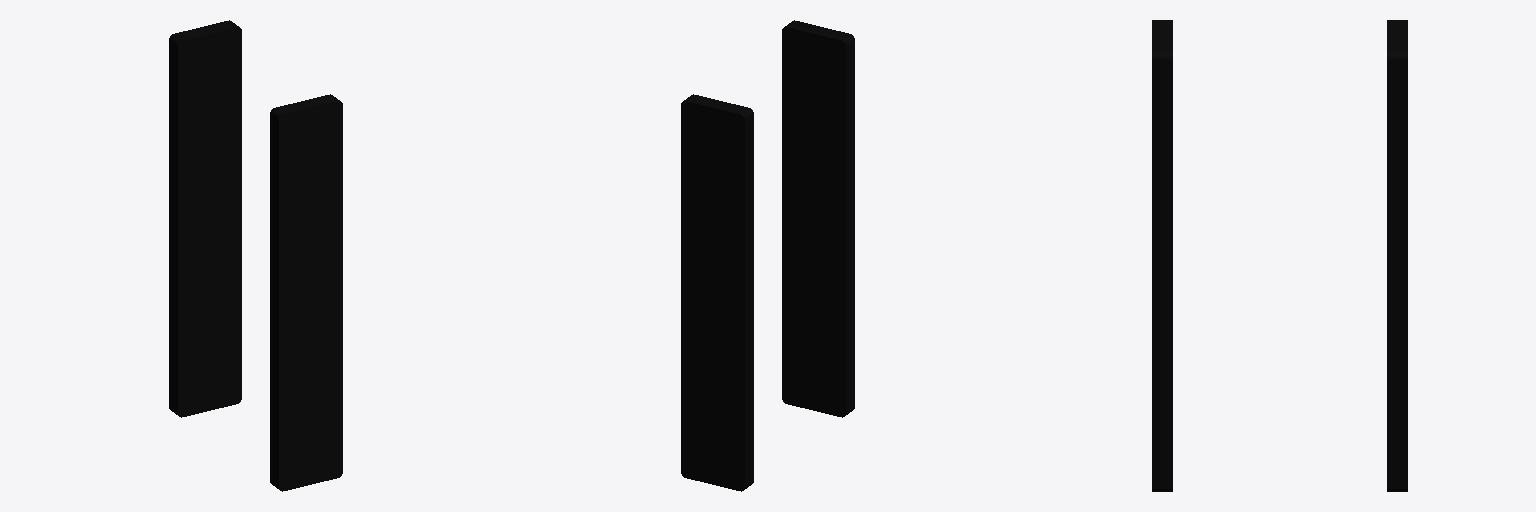
URDF robot description (turtlebot_arm):
<?xml version="1.0" ?>
<!-- =================================================================================== -->
<!-- |    This document was autogenerated by xacro from src/arm_description/urdf/meu_braco.urdf.xacro | -->
<!-- |    EDITING THIS FILE BY HAND IS NOT RECOMMENDED                                 | -->
<!-- =================================================================================== -->
<robot name="turtlebot_arm">
  <ros2_control name="GazeboSystem" type="system">
    <hardware>
      <plugin>gz_ros2_control/GazeboSimSystem</plugin>
    </hardware>
    <joint name="arm_shoulder_pan_joint">
      <command_interface name="position">
        <param name="min">-2.617</param>
        <param name="max">2.617</param>
      </command_interface>
      <state_interface name="position"/>
      <state_interface name="velocity"/>
    </joint>
    <joint name="arm_shoulder_lift_joint">
      <command_interface name="position">
        <param name="min">-2.2</param>
        <param name="max">2.16</param>
      </command_interface>
      <state_interface name="position"/>
      <state_interface name="velocity"/>
    </joint>
    <joint name="arm_elbow_flex_joint">
      <command_interface name="position">
        <param name="min">-2.42</param>
        <param name="max">2.38</param>
      </command_interface>
      <state_interface name="position"/>
      <state_interface name="velocity"/>
    </joint>
    <joint name="arm_wrist_flex_joint">
      <command_interface name="position">
        <param name="min">-1.72</param>
        <param name="max">1.68</param>
      </command_interface>
      <state_interface name="position"/>
      <state_interface name="velocity"/>
    </joint>
    <joint name="crane_plus_moving_finger_joint">
      <command_interface name="position">
        <param name="min">-0.6</param>
        <param name="max">0.508</param>
      </command_interface>
      <state_interface name="position"/>
      <state_interface name="velocity"/>
    </joint>
  </ros2_control>
  <material name="White">
    <color rgba="0.87 0.90 0.87 1.0"/>
  </material>
  <material name="Black">
    <color rgba="0.08 0.08 0.08 1.0"/>
  </material>
  <material name="Gray">
    <color rgba="0.2 0.2 0.21 1.0"/>
  </material>
  <material name="Green">
    <color rgba="0.22 0.32 0.14 1.0"/>
  </material>
  <link name="base_link"/>
  <link name="arm_base_link"/>
  <joint name="arm_base_joint" type="fixed">
    <origin xyz="0.1 0.03 0.435"/>
    <parent link="base_link"/>
    <child link="arm_base_link"/>
  </joint>
  <link name="gripper_link"/>
  <joint name="gripper_link_joint" type="revolute">
    <origin rpy="0 -1.57 0" xyz="0 0 0.112"/>
    <parent link="arm_wrist_flex_link"/>
    <child link="gripper_link"/>
    <limit effort="30" lower="-3.14" upper="3.14" velocity="1"/>
    <axis xyz="1 0 0"/>
  </joint>
  <joint name="arm_shoulder_pan_servo_joint" type="fixed">
    <origin rpy="1.570795 0 1.570795" xyz="0 0 0"/>
    <parent link="arm_base_link"/>
    <child link="arm_shoulder_pan_servo_link"/>
  </joint>
  <link name="arm_shoulder_pan_servo_link">
    <inertial>
      <mass value="0.1"/>
      <origin rpy="0 0 0" xyz="0 0 0"/>
      <inertia ixx="0.0001" ixy="0" ixz="0" iyy="0.0001" iyz="0" izz="0.0001"/>
    </inertial>
    <visual>
      <origin rpy="0 0 0" xyz=" 0 0 0 "/>
      <geometry>
        <mesh filename="package://arm_description/meshes/ax12_box.stl" scale="0.001 0.001 0.001"/>
      </geometry>
      <material name="Black"/>
    </visual>
    <collision>
      <origin rpy="0 0 0" xyz="0.0 0.0 -0.01241"/>
      <geometry>
        <box size="0.025 0.038 0.04762"/>
      </geometry>
    </collision>
  </link>
  <joint name="arm_shoulder_pan_joint" type="revolute">
    <origin rpy="-1.570795 1.570795 3.14159" xyz="0 0.019 0"/>
    <axis xyz="0 0 -1"/>
    <limit effort="30" lower="-2.617" upper="2.617" velocity="1.571"/>
    <parent link="arm_shoulder_pan_servo_link"/>
    <child link="arm_shoulder_pan_link"/>
  </joint>
  <link name="arm_shoulder_pan_link">
    <inertial>
      <mass value="0.1"/>
      <origin rpy="0 0 0" xyz="0 0 0"/>
      <inertia ixx="0.0001" ixy="0" ixz="0" iyy="0.0001" iyz="0" izz="0.0001"/>
    </inertial>
    <visual>
      <origin rpy="0 0 0" xyz=" 0 0 0 "/>
      <geometry>
        <mesh filename="package://arm_description/meshes/F3.stl" scale="0.001 0.001 0.001"/>
      </geometry>
      <material name="Gray"/>
    </visual>
    <collision>
      <origin rpy="0 0 0" xyz="0.0 0.0 -0.0045"/>
      <geometry>
        <box size="0.025 0.038 0.009"/>
      </geometry>
    </collision>
  </link>
  <joint name="arm_shoulder_lift_servo_joint" type="fixed">
    <origin rpy="0 3.14159 0" xyz="0 0 -0.041499999999999995"/>
    <parent link="arm_shoulder_pan_link"/>
    <child link="arm_shoulder_lift_servo_link"/>
  </joint>
  <link name="arm_shoulder_lift_servo_link">
    <inertial>
      <mass value="0.1"/>
      <origin rpy="0 0 0" xyz="0 0 0"/>
      <inertia ixx="0.0001" ixy="0" ixz="0" iyy="0.0001" iyz="0" izz="0.0001"/>
    </inertial>
    <visual>
      <origin rpy="0 0 0" xyz=" 0 0 0 "/>
      <geometry>
        <mesh filename="package://arm_description/meshes/ax12_box.stl" scale="0.001 0.001 0.001"/>
      </geometry>
      <material name="Black"/>
    </visual>
    <collision>
      <origin rpy="0 0 0" xyz="0.0 0.0 -0.01241"/>
      <geometry>
        <box size="0.025 0.038 0.04762"/>
      </geometry>
    </collision>
  </link>
  <joint name="arm_shoulder_lift_joint" type="revolute">
    <origin rpy="0 0 0" xyz="0 0 0"/>
    <axis xyz="0 1 0"/>
    <limit effort="30" lower="-2.2" upper="2.16" velocity="1.571"/>
    <parent link="arm_shoulder_lift_servo_link"/>
    <child link="arm_shoulder_lift_link"/>
  </joint>
  <link name="arm_shoulder_lift_link">
    <inertial>
      <mass value="0.1"/>
      <origin rpy="0 0 0" xyz="0 0 0"/>
      <inertia ixx="0.0001" ixy="0" ixz="0" iyy="0.0001" iyz="0" izz="0.0001"/>
    </inertial>
    <visual>
      <origin rpy="0 0 0" xyz=" 0 0 0 "/>
      <geometry>
        <mesh filename="package://arm_description/meshes/F4.stl" scale="0.001 0.001 0.001"/>
      </geometry>
      <material name="Gray"/>
    </visual>
    <collision>
      <origin rpy="0 0 0" xyz="0.0 0.0 0.0215"/>
      <geometry>
        <box size="0.028 0.0485 0.065"/>
      </geometry>
    </collision>
  </link>
  <joint name="arm_shoulder_F10_0_joint" type="fixed">
    <origin rpy="0 0 0" xyz="0 0 0.0545"/>
    <parent link="arm_shoulder_lift_link"/>
    <child link="arm_shoulder_F10_0_link"/>
  </joint>
  <link name="arm_shoulder_F10_0_link">
    <inertial>
      <mass value="0.1"/>
      <origin rpy="0 0 0" xyz="0 0 0"/>
      <inertia ixx="0.0001" ixy="0" ixz="0" iyy="0.0001" iyz="0" izz="0.0001"/>
    </inertial>
    <visual>
      <origin rpy="0 0 0" xyz=" 0 0 0 "/>
      <geometry>
        <mesh filename="package://arm_description/meshes/F10.stl" scale="0.001 0.001 0.001"/>
      </geometry>
      <material name="Gray"/>
    </visual>
    <collision>
      <origin rpy="0 0 0" xyz="0.0 0.0 0.0"/>
      <geometry>
        <box size="0.025 0.038 0.004"/>
      </geometry>
    </collision>
  </link>
  <joint name="arm_shoulder_F10_1_joint" type="fixed">
    <origin rpy="0 0 0" xyz="0 0 0.004"/>
    <parent link="arm_shoulder_F10_0_link"/>
    <child link="arm_shoulder_F10_1_link"/>
  </joint>
  <link name="arm_shoulder_F10_1_link">
    <inertial>
      <mass value="0.1"/>
      <origin rpy="0 0 0" xyz="0 0 0"/>
      <inertia ixx="0.0001" ixy="0" ixz="0" iyy="0.0001" iyz="0" izz="0.0001"/>
    </inertial>
    <visual>
      <origin rpy="0 0 0" xyz=" 0 0 0 "/>
      <geometry>
        <mesh filename="package://arm_description/meshes/F10.stl" scale="0.001 0.001 0.001"/>
      </geometry>
      <material name="Gray"/>
    </visual>
    <collision>
      <origin rpy="0 0 0" xyz="0.0 0.0 0.0"/>
      <geometry>
        <box size="0.025 0.038 0.004"/>
      </geometry>
    </collision>
  </link>
  <joint name="arm_shoulder_F10_2_joint" type="fixed">
    <origin rpy="0 0 0" xyz="0 0 0.004"/>
    <parent link="arm_shoulder_F10_1_link"/>
    <child link="arm_shoulder_F10_2_link"/>
  </joint>
  <link name="arm_shoulder_F10_2_link">
    <inertial>
      <mass value="0.1"/>
      <origin rpy="0 0 0" xyz="0 0 0"/>
      <inertia ixx="0.0001" ixy="0" ixz="0" iyy="0.0001" iyz="0" izz="0.0001"/>
    </inertial>
    <visual>
      <origin rpy="0 0 0" xyz=" 0 0 0 "/>
      <geometry>
        <mesh filename="package://arm_description/meshes/F10.stl" scale="0.001 0.001 0.001"/>
      </geometry>
      <material name="Gray"/>
    </visual>
    <collision>
      <origin rpy="0 0 0" xyz="0.0 0.0 0.0"/>
      <geometry>
        <box size="0.025 0.038 0.004"/>
      </geometry>
    </collision>
  </link>
  <joint name="arm_shoulder_F3_0_joint" type="fixed">
    <origin rpy="0 3.14159 0" xyz="0 0 0.002"/>
    <parent link="arm_shoulder_F10_2_link"/>
    <child link="arm_shoulder_F3_0_link"/>
  </joint>
  <link name="arm_shoulder_F3_0_link">
    <inertial>
      <mass value="0.1"/>
      <origin rpy="0 0 0" xyz="0 0 0"/>
      <inertia ixx="0.0001" ixy="0" ixz="0" iyy="0.0001" iyz="0" izz="0.0001"/>
    </inertial>
    <visual>
      <origin rpy="0 0 0" xyz=" 0 0 0 "/>
      <geometry>
        <mesh filename="package://arm_description/meshes/F3.stl" scale="0.001 0.001 0.001"/>
      </geometry>
      <material name="Gray"/>
    </visual>
    <collision>
      <origin rpy="0 0 0" xyz="0.0 0.0 -0.0045"/>
      <geometry>
        <box size="0.025 0.038 0.009"/>
      </geometry>
    </collision>
  </link>
  <joint name="arm_elbow_flex_servo_joint" type="fixed">
    <origin rpy="0 3.14159 0" xyz="0 0 -0.041499999999999995"/>
    <parent link="arm_shoulder_F3_0_link"/>
    <child link="arm_elbow_flex_servo_link"/>
  </joint>
  <link name="arm_elbow_flex_servo_link">
    <inertial>
      <mass value="0.1"/>
      <origin rpy="0 0 0" xyz="0 0 0"/>
      <inertia ixx="0.0001" ixy="0" ixz="0" iyy="0.0001" iyz="0" izz="0.0001"/>
    </inertial>
    <visual>
      <origin rpy="0 0 0" xyz=" 0 0 0 "/>
      <geometry>
        <mesh filename="package://arm_description/meshes/ax12_box.stl" scale="0.001 0.001 0.001"/>
      </geometry>
      <material name="Black"/>
    </visual>
    <collision>
      <origin rpy="0 0 0" xyz="0.0 0.0 -0.01241"/>
      <geometry>
        <box size="0.025 0.038 0.04762"/>
      </geometry>
    </collision>
  </link>
  <joint name="arm_elbow_flex_joint" type="revolute">
    <origin rpy="0 0 0" xyz="0 0 0"/>
    <axis xyz="0 1 0"/>
    <limit effort="30" lower="-2.42" upper="2.38" velocity="1.571"/>
    <parent link="arm_elbow_flex_servo_link"/>
    <child link="arm_elbow_flex_link"/>
  </joint>
  <link name="arm_elbow_flex_link">
    <inertial>
      <mass value="0.1"/>
      <origin rpy="0 0 0" xyz="0 0 0"/>
      <inertia ixx="0.0001" ixy="0" ixz="0" iyy="0.0001" iyz="0" izz="0.0001"/>
    </inertial>
    <visual>
      <origin rpy="0 0 0" xyz=" 0 0 0 "/>
      <geometry>
        <mesh filename="package://arm_description/meshes/F4.stl" scale="0.001 0.001 0.001"/>
      </geometry>
      <material name="Gray"/>
    </visual>
    <collision>
      <origin rpy="0 0 0" xyz="0.0 0.0 0.0215"/>
      <geometry>
        <box size="0.028 0.0485 0.065"/>
      </geometry>
    </collision>
  </link>
  <joint name="arm_elbow_F10_0_joint" type="fixed">
    <origin rpy="0 0 0" xyz="0 0 0.0545"/>
    <parent link="arm_elbow_flex_link"/>
    <child link="arm_elbow_F10_0_link"/>
  </joint>
  <link name="arm_elbow_F10_0_link">
    <inertial>
      <mass value="0.1"/>
      <origin rpy="0 0 0" xyz="0 0 0"/>
      <inertia ixx="0.0001" ixy="0" ixz="0" iyy="0.0001" iyz="0" izz="0.0001"/>
    </inertial>
    <visual>
      <origin rpy="0 0 0" xyz=" 0 0 0 "/>
      <geometry>
        <mesh filename="package://arm_description/meshes/F10.stl" scale="0.001 0.001 0.001"/>
      </geometry>
      <material name="Gray"/>
    </visual>
    <collision>
      <origin rpy="0 0 0" xyz="0.0 0.0 0.0"/>
      <geometry>
        <box size="0.025 0.038 0.004"/>
      </geometry>
    </collision>
  </link>
  <joint name="arm_elbow_F10_1_joint" type="fixed">
    <origin rpy="0 0 0" xyz="0 0 0.004"/>
    <parent link="arm_elbow_F10_0_link"/>
    <child link="arm_elbow_F10_1_link"/>
  </joint>
  <link name="arm_elbow_F10_1_link">
    <inertial>
      <mass value="0.1"/>
      <origin rpy="0 0 0" xyz="0 0 0"/>
      <inertia ixx="0.0001" ixy="0" ixz="0" iyy="0.0001" iyz="0" izz="0.0001"/>
    </inertial>
    <visual>
      <origin rpy="0 0 0" xyz=" 0 0 0 "/>
      <geometry>
        <mesh filename="package://arm_description/meshes/F10.stl" scale="0.001 0.001 0.001"/>
      </geometry>
      <material name="Gray"/>
    </visual>
    <collision>
      <origin rpy="0 0 0" xyz="0.0 0.0 0.0"/>
      <geometry>
        <box size="0.025 0.038 0.004"/>
      </geometry>
    </collision>
  </link>
  <joint name="arm_elbow_F10_2_joint" type="fixed">
    <origin rpy="0 0 0" xyz="0 0 0.004"/>
    <parent link="arm_elbow_F10_1_link"/>
    <child link="arm_elbow_F10_2_link"/>
  </joint>
  <link name="arm_elbow_F10_2_link">
    <inertial>
      <mass value="0.1"/>
      <origin rpy="0 0 0" xyz="0 0 0"/>
      <inertia ixx="0.0001" ixy="0" ixz="0" iyy="0.0001" iyz="0" izz="0.0001"/>
    </inertial>
    <visual>
      <origin rpy="0 0 0" xyz=" 0 0 0 "/>
      <geometry>
        <mesh filename="package://arm_description/meshes/F10.stl" scale="0.001 0.001 0.001"/>
      </geometry>
      <material name="Gray"/>
    </visual>
    <collision>
      <origin rpy="0 0 0" xyz="0.0 0.0 0.0"/>
      <geometry>
        <box size="0.025 0.038 0.004"/>
      </geometry>
    </collision>
  </link>
  <joint name="arm_elbow_F3_0_joint" type="fixed">
    <origin rpy="0 3.14159 0" xyz="0 0 0.002"/>
    <parent link="arm_elbow_F10_2_link"/>
    <child link="arm_elbow_F3_0_link"/>
  </joint>
  <link name="arm_elbow_F3_0_link">
    <inertial>
      <mass value="0.1"/>
      <origin rpy="0 0 0" xyz="0 0 0"/>
      <inertia ixx="0.0001" ixy="0" ixz="0" iyy="0.0001" iyz="0" izz="0.0001"/>
    </inertial>
    <visual>
      <origin rpy="0 0 0" xyz=" 0 0 0 "/>
      <geometry>
        <mesh filename="package://arm_description/meshes/F3.stl" scale="0.001 0.001 0.001"/>
      </geometry>
      <material name="Gray"/>
    </visual>
    <collision>
      <origin rpy="0 0 0" xyz="0.0 0.0 -0.0045"/>
      <geometry>
        <box size="0.025 0.038 0.009"/>
      </geometry>
    </collision>
  </link>
  <joint name="arm_wrist_flex_servo_joint" type="fixed">
    <origin rpy="0 3.14159 0" xyz="0 0 -0.041499999999999995"/>
    <parent link="arm_elbow_F3_0_link"/>
    <child link="arm_wrist_flex_servo_link"/>
  </joint>
  <link name="arm_wrist_flex_servo_link">
    <inertial>
      <mass value="0.1"/>
      <origin rpy="0 0 0" xyz="0 0 0"/>
      <inertia ixx="0.0001" ixy="0" ixz="0" iyy="0.0001" iyz="0" izz="0.0001"/>
    </inertial>
    <visual>
      <origin rpy="0 0 0" xyz=" 0 0 0 "/>
      <geometry>
        <mesh filename="package://arm_description/meshes/ax12_box.stl" scale="0.001 0.001 0.001"/>
      </geometry>
      <material name="Black"/>
    </visual>
    <collision>
      <origin rpy="0 0 0" xyz="0.0 0.0 -0.01241"/>
      <geometry>
        <box size="0.025 0.038 0.04762"/>
      </geometry>
    </collision>
  </link>
  <joint name="arm_wrist_flex_joint" type="revolute">
    <origin rpy="0 0 0" xyz="0 0 0"/>
    <axis xyz="0 1 0"/>
    <limit effort="30" lower="-1.72" upper="1.68" velocity="1.571"/>
    <parent link="arm_wrist_flex_servo_link"/>
    <child link="arm_wrist_flex_link"/>
  </joint>
  <link name="arm_wrist_flex_link">
    <inertial>
      <mass value="0.1"/>
      <origin rpy="0 0 0" xyz="0 0 0"/>
      <inertia ixx="0.0001" ixy="0" ixz="0" iyy="0.0001" iyz="0" izz="0.0001"/>
    </inertial>
    <visual>
      <origin rpy="0 0 0" xyz=" 0 0 0 "/>
      <geometry>
        <mesh filename="package://arm_description/meshes/F2.stl" scale="0.001 0.001 0.001"/>
      </geometry>
      <material name="Gray"/>
    </visual>
    <collision>
      <origin rpy="0 0 0" xyz="0.0 0.0 0.00775"/>
      <geometry>
        <box size="0.025 0.0485 0.0375"/>
      </geometry>
    </collision>
  </link>
  <joint name="crane_plus_internal_wrist_joiner_joint" type="fixed">
    <origin rpy="0 0 1.570795" xyz="0 0 0.0265"/>
    <parent link="arm_wrist_flex_link"/>
    <child link="crane_plus_internal_wrist_joiner_link"/>
  </joint>
  <link name="crane_plus_internal_wrist_joiner_link">
    <inertial>
      <mass value="0.005"/>
      <origin rpy="0 0 0" xyz="0 0 0.0045"/>
      <inertia ixx="6.3e-7" ixy="0" ixz="0" iyy="8.6e-7" iyz="0" izz="2.9e-7"/>
    </inertial>
    <visual>
      <origin rpy="1.570795 0 3.14159" xyz="0 0 0"/>
      <geometry>
        <mesh filename="package://arm_description/meshes/f3.stl" scale="0.001 0.001 0.001"/>
      </geometry>
      <material name="Gray"/>
    </visual>
    <collision>
      <origin rpy="0 0 0" xyz="0 0 0.0045"/>
      <geometry>
        <box size="0.025 0.038 0.009"/>
      </geometry>
    </collision>
  </link>
  <joint name="crane_plus_internal_gripper_servo_joint" type="fixed">
    <origin rpy="1.570795 3.14159 0" xyz="0.0028 0 0.019"/>
    <parent link="crane_plus_internal_wrist_joiner_link"/>
    <child link="crane_plus_internal_gripper_servo_link"/>
  </joint>
  <link name="crane_plus_internal_gripper_servo_link">
    <inertial>
      <mass value="0.055"/>
      <origin xyz="0 0 0"/>
      <inertia ixx="1.7e-5" ixy="0" ixz="0" iyy="1.3e-5" iyz="0" izz="9.4e-6"/>
    </inertial>
    <visual>
      <origin rpy="-1.570795 0 0" xyz="0 0 0"/>
      <geometry>
        <mesh filename="package://arm_description/meshes/crane_plus_ax12.stl" scale="0.001 0.001 0.001"/>
      </geometry>
      <material name="Black"/>
    </visual>
    <collision>
      <origin rpy="0 0 0" xyz="0.0015 0 0"/>
      <geometry>
        <box size="0.05 0.032 0.038"/>
      </geometry>
    </collision>
  </link>
  <joint name="crane_plus_internal_fixed_finger_joiner_joint" type="fixed">
    <origin rpy="-1.570795 0 1.570795" xyz="0.0295 0 0"/>
    <parent link="crane_plus_internal_gripper_servo_link"/>
    <child link="crane_plus_internal_fixed_finger_joiner_link"/>
  </joint>
  <link name="crane_plus_internal_fixed_finger_joiner_link">
    <inertial>
      <mass value="0.005"/>
      <origin rpy="0 0 0" xyz="0 0 0.0045"/>
      <inertia ixx="6.3e-7" ixy="0" ixz="0" iyy="8.6e-7" iyz="0" izz="2.9e-7"/>
    </inertial>
    <visual>
      <origin rpy="1.570795 0 3.14159" xyz="0 0 0"/>
      <geometry>
        <mesh filename="package://arm_description/meshes/f3.stl" scale="0.001 0.001 0.001"/>
      </geometry>
      <material name="Gray"/>
    </visual>
    <collision>
      <origin rpy="0 0 0" xyz="0 0 0.0045"/>
      <geometry>
        <box size="0.025 0.038 0.009"/>
      </geometry>
    </collision>
  </link>
  <joint name="crane_plus_internal_fixed_finger_joint" type="fixed">
    <origin rpy="0 0 3.14159" xyz="0 0 0"/>
    <parent link="crane_plus_internal_fixed_finger_joiner_link"/>
    <child link="crane_plus_internal_fixed_finger_link"/>
  </joint>
  <link name="crane_plus_internal_fixed_finger_link">
    <inertial>
      <mass value="0.01"/>
      <origin xyz="0 0 0"/>
      <inertia ixx="1.0e-5" ixy="0" ixz="0" iyy="1.0e-5" iyz="0" izz="1.0e-5"/>
    </inertial>
    <visual>
      <origin rpy="0 0 0" xyz="0.05 0 0"/>
      <geometry>
        <mesh filename="package://arm_description/meshes/garra.stl" scale="0.001 0.001 0.001"/>
      </geometry>
      <material name="Black"/>
    </visual>
    <collision>
      <origin rpy="0 0 0" xyz="0.05 0 0"/>
      <geometry>
        <mesh filename="package://arm_description/meshes/garra.stl" scale="0.001 0.001 0.001"/>
      </geometry>
    </collision>
  </link>
  <joint name="crane_plus_fixed_finger_tip" type="fixed">
    <origin rpy="1.570795 0 1.570795" xyz="0.0745 0 -0.0106"/>
    <parent link="crane_plus_internal_fixed_finger_link"/>
    <child link="crane_plus_fixed_finger_tip_link"/>
  </joint>
  <link name="crane_plus_fixed_finger_tip_link"/>
  <joint name="crane_plus_moving_finger_joint" type="revolute">
    <origin rpy="-1.570795 0 -1.570795" xyz="-0.012 0 0"/>
    <axis xyz="0 -1 0"/>
    <limit effort="30" lower="-0.6" upper="0.508" velocity="1.571"/>
    <parent link="crane_plus_internal_gripper_servo_link"/>
    <child link="crane_plus_moving_finger_link"/>
  </joint>
  <link name="crane_plus_moving_finger_link">
    <inertial>
      <mass value="0.01"/>
      <origin rpy="0 0 0" xyz="0 0 -0.00775"/>
      <inertia ixx="2.2e-6" ixy="0" ixz="0" iyy="2.4e-6" iyz="0" izz="8.1e-7"/>
    </inertial>
    <visual>
      <origin rpy="1.570795 0 0" xyz="0 0 0"/>
      <geometry>
        <mesh filename="package://arm_description/meshes/f2.stl" scale="0.001 0.001 0.001"/>
      </geometry>
      <material name="Gray"/>
    </visual>
    <collision>
      <origin rpy="0 0 0" xyz="0 0 -0.00775"/>
      <geometry>
        <box size="0.025 0.0485 0.0375"/>
      </geometry>
    </collision>
  </link>
  <joint name="crane_plus_internal_moving_finger_plate_joint" type="fixed">
    <origin rpy="3.14159 0 0" xyz="0 0 -0.0265"/>
    <parent link="crane_plus_moving_finger_link"/>
    <child link="crane_plus_internal_moving_finger_plate_link"/>
  </joint>
  <link name="crane_plus_internal_moving_finger_plate_link">
    <inertial>
      <mass value="0.01"/>
      <origin xyz="0 0 0"/>
      <inertia ixx="1.0e-5" ixy="0" ixz="0" iyy="1.0e-5" iyz="0" izz="1.0e-5"/>
    </inertial>
    <visual>
      <origin rpy="0 0 0" xyz="0.05 0 0"/>
      <geometry>
        <mesh filename="package://arm_description/meshes/garra.stl" scale="0.001 0.001 0.001"/>
      </geometry>
      <material name="Black"/>
    </visual>
    <collision>
      <origin rpy="0 0 0" xyz="0.05 0 0"/>
      <geometry>
        <mesh filename="package://arm_description/meshes/garra.stl" scale="0.001 0.001 0.001"/>
      </geometry>
    </collision>
  </link>
  <joint name="crane_plus_moving_finger_tip" type="fixed">
    <origin rpy="1.570795 0 1.570795" xyz="0.0923 0 -0.0194"/>
    <parent link="crane_plus_internal_moving_finger_plate_link"/>
    <child link="crane_plus_moving_finger_tip_link"/>
  </joint>
  <link name="crane_plus_moving_finger_tip_link"/>
</robot>

--- Render facts (derived) ---
3 views of the same robot in one strip: view 1: azimuth 30°, elevation 25°; view 2: azimuth 150°, elevation 25°; view 3: azimuth 270°, elevation 25° (orthographic).
Robot: turtlebot_arm — 27 links, 26 joints (6 revolute, 20 fixed); root link base_link; default pose: all joints at 0.
Visible links, largest first — view 1: crane_plus_internal_fixed_finger_link, crane_plus_internal_moving_finger_plate_link; view 2: crane_plus_internal_fixed_finger_link, crane_plus_internal_moving_finger_plate_link; view 3: crane_plus_internal_fixed_finger_link, crane_plus_internal_moving_finger_plate_link.
Link boxes in pixels (bbox=[...]): crane_plus_internal_fixed_finger_link: bbox=[270, 94, 342, 491]; crane_plus_internal_moving_finger_plate_link: bbox=[169, 20, 241, 417]; crane_plus_internal_fixed_finger_link: bbox=[782, 20, 854, 417]; crane_plus_internal_moving_finger_plate_link: bbox=[681, 94, 753, 491]; crane_plus_internal_fixed_finger_link: bbox=[1152, 20, 1172, 491]; crane_plus_internal_moving_finger_plate_link: bbox=[1387, 20, 1407, 491].
Bounding box of the posed robot: 0.025 × 0.074 × 0.14 m (x, y, z).
Meshes: 9 distinct files referenced, 2 mesh visuals loaded (1 binary STL); not drawn: 20 (reference not matched to a file when rendering).